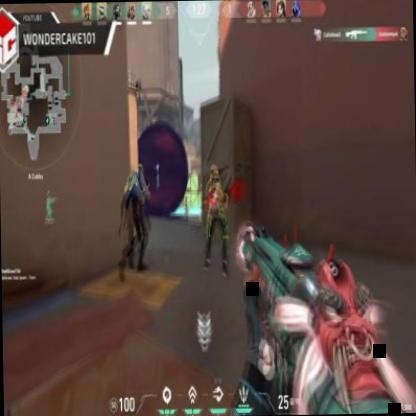enemy: (202, 166, 228, 266), (128, 168, 146, 268), (182, 192, 191, 223)
enemy_head: (210, 168, 219, 186), (130, 168, 139, 180), (185, 194, 188, 198)
